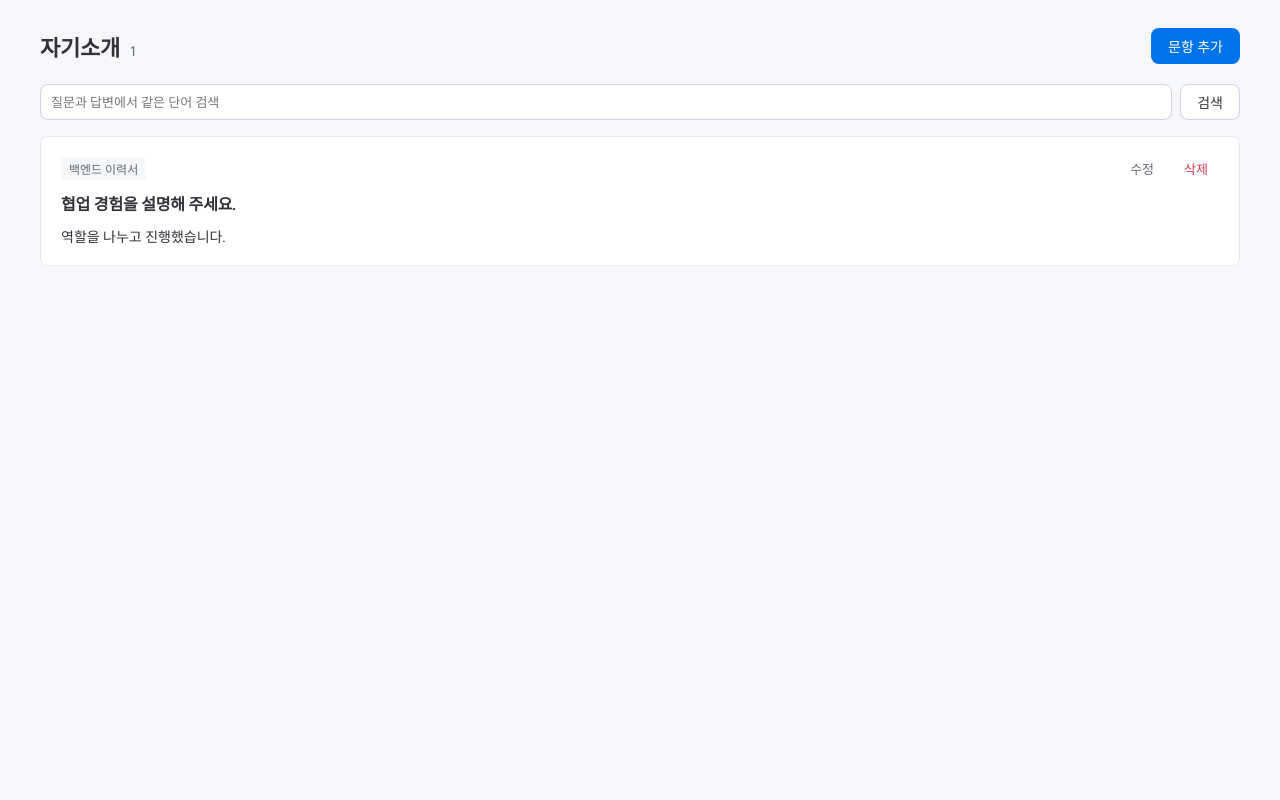
자기소개 검색 하이라이트 › 문항을 더블클릭하면 기존 값으로 편집기를 연다
Double-click the heading "협업 경험을 설명해 주세요.": (148, 204) 61,195 -> 236,214
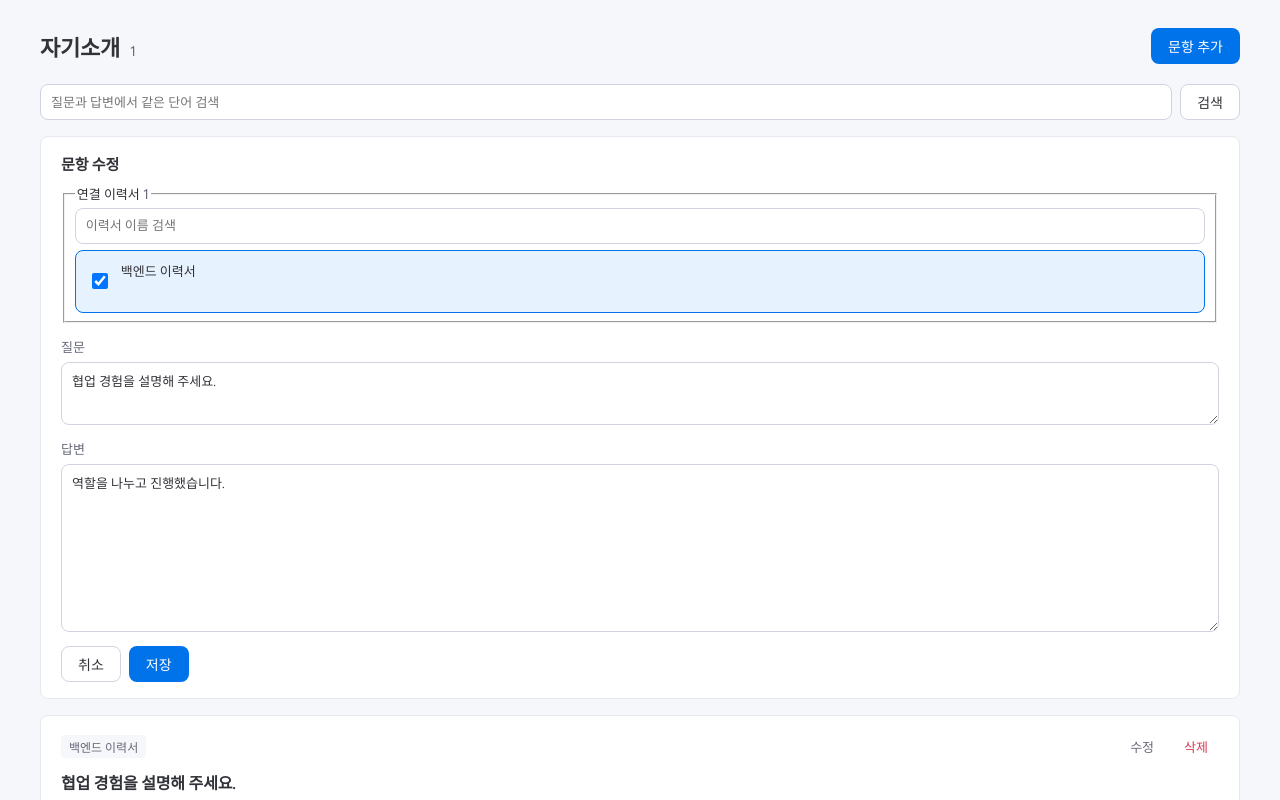
Now the heading "문항 수정" is shown, box 61,153 -> 119,174
Now the text box labelled "질문" holds "협업 경험을 설명해 주세요.", box 61,362 -> 1219,425
